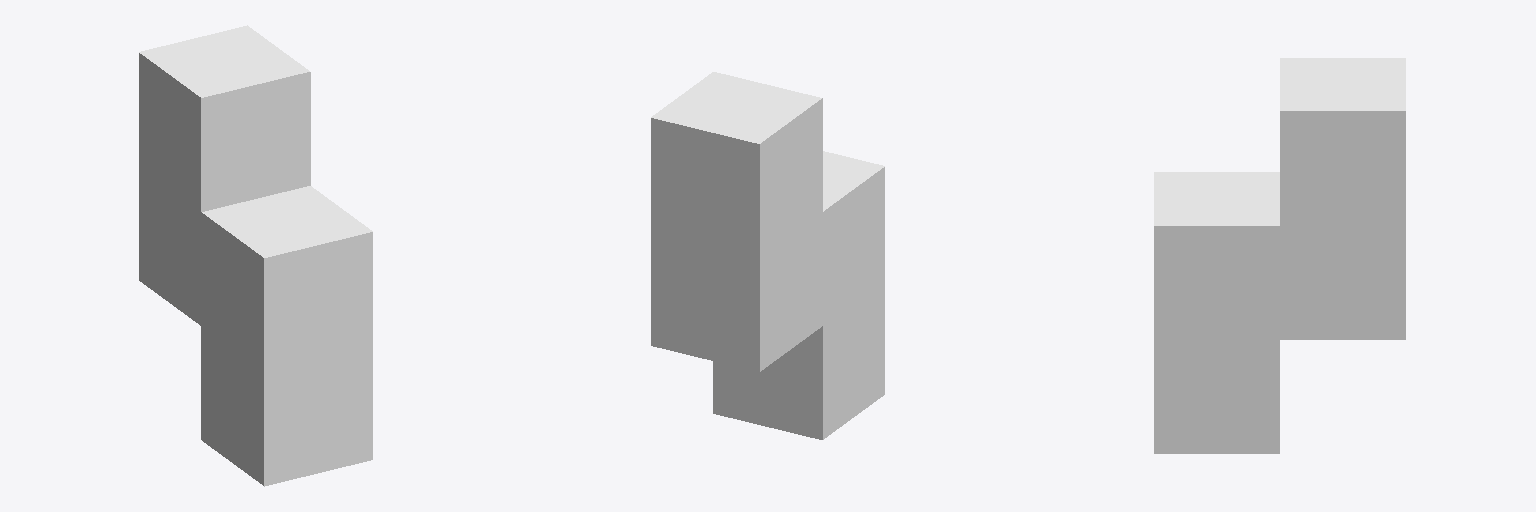
Rendered from glass1.obj.
3 renders of one model, left to right at view 1: azimuth 30°, elevation 25°; view 2: azimuth 150°, elevation 25°; view 3: azimuth 270°, elevation 25°, orthographic.
Parts seen in each view (by area): view 1: object 1; view 2: object 1; view 3: object 1.
Part boxes in pixels (x1,y1,x2,y2): object 1: (139,25,372,486); object 1: (651,72,884,439); object 1: (1154,58,1405,453).
Size of the model in its own units: 0.1 by 0.3 by 0.2.